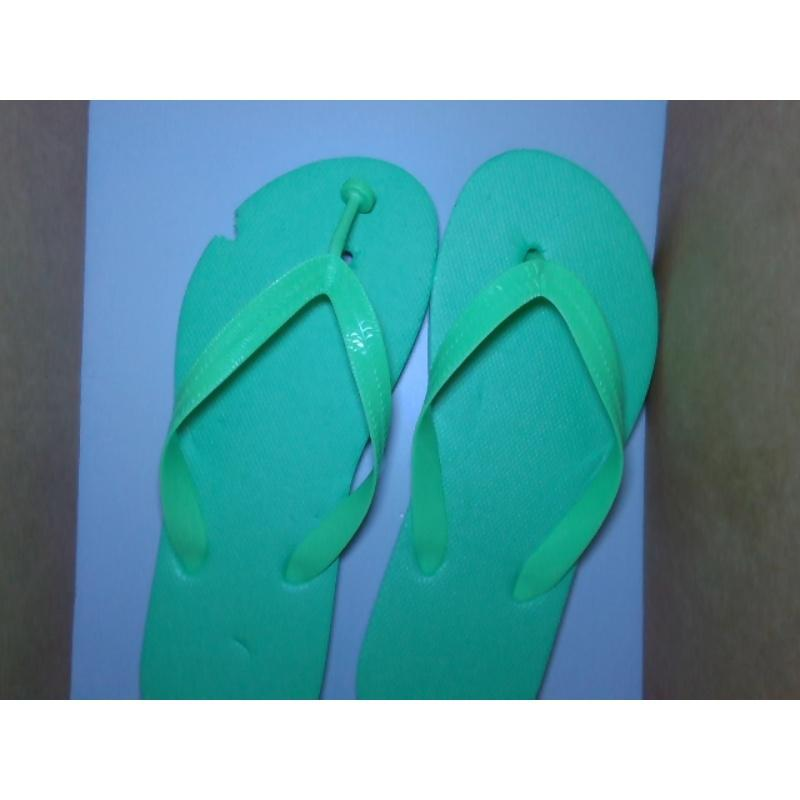chipped: (199, 196, 252, 256)
detached: (328, 167, 390, 233)
